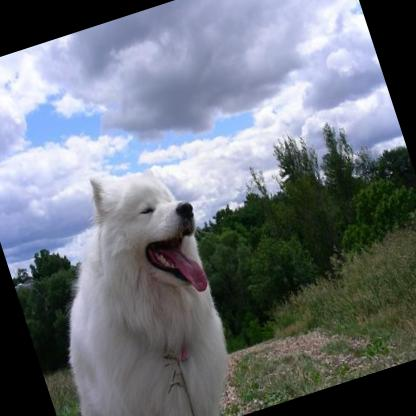Samoyed: (11, 149, 257, 416)
